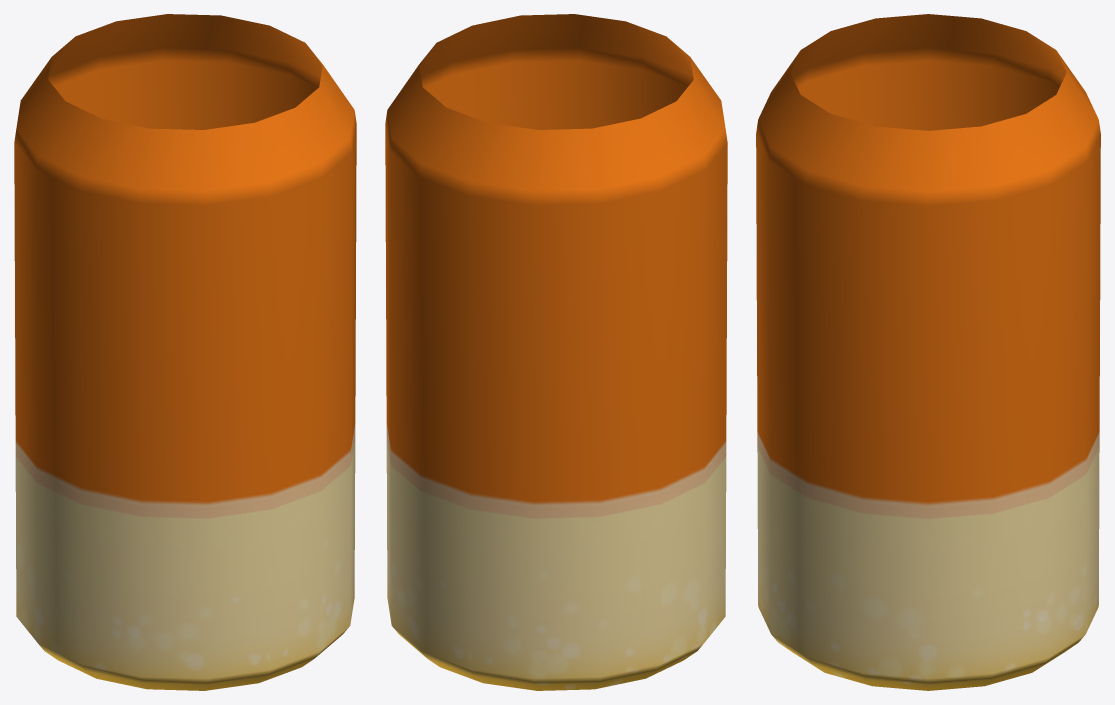
Rendered from KingCan_Label_02.fbx.
3 views of the same model, side by side, from view 1: azimuth 30°, elevation 25°; view 2: azimuth 150°, elevation 25°; view 3: azimuth 270°, elevation 25° (orthographic).
Parts seen in each view (by area): view 1: KingCan_Label_02; view 2: KingCan_Label_02; view 3: KingCan_Label_02.
Part boxes in pixels (left/top/right/bottom): KingCan_Label_02: left=14, top=14, right=356, bottom=690; KingCan_Label_02: left=385, top=14, right=727, bottom=690; KingCan_Label_02: left=756, top=14, right=1100, bottom=690.
Size of the model in its own units: 43.38 by 77.26 by 43.38.
